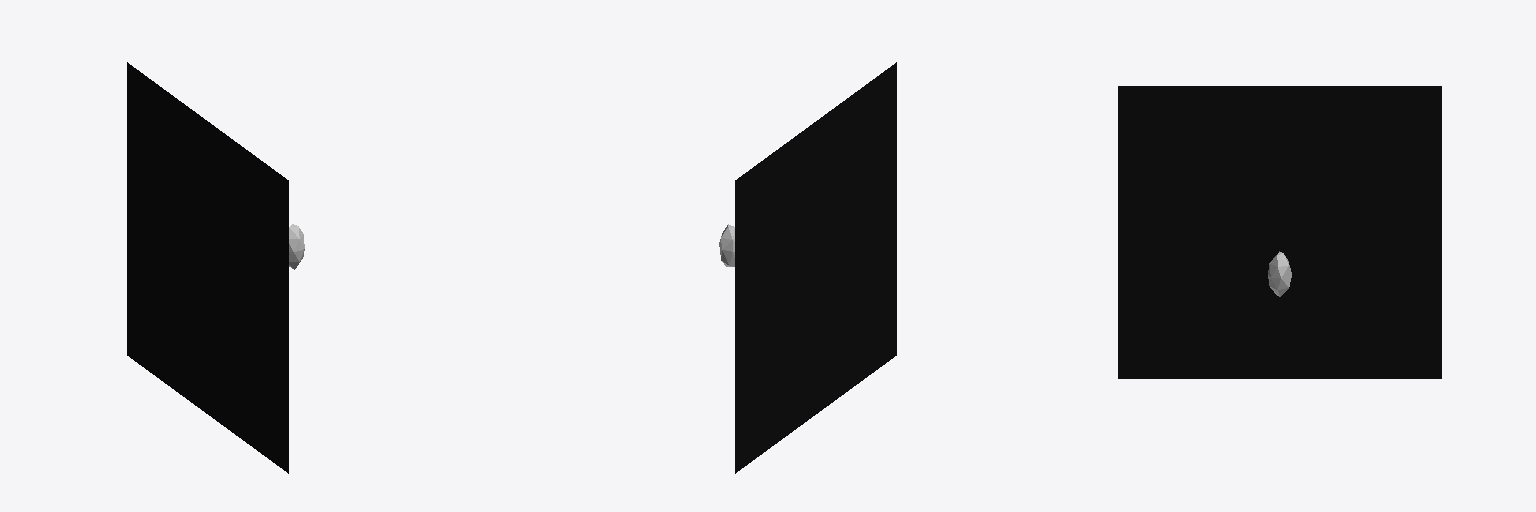
File: diamond.obj
3 views of the same model, side by side, from view 1: azimuth 30°, elevation 25°; view 2: azimuth 150°, elevation 25°; view 3: azimuth 270°, elevation 25° (orthographic).
Parts seen in each view (by area): view 1: Plane, Icosphere; view 2: Plane, Icosphere; view 3: Plane, Icosphere.
Boxes of the visible parts, x1,y1,x2,y2 form: Plane: [127, 62, 288, 473]; Icosphere: [289, 224, 304, 269]; Plane: [735, 62, 896, 473]; Icosphere: [719, 224, 734, 266]; Plane: [1118, 86, 1441, 378]; Icosphere: [1268, 251, 1291, 296].
Size of the model in its own units: 9.25 by 26.82 by 26.82.